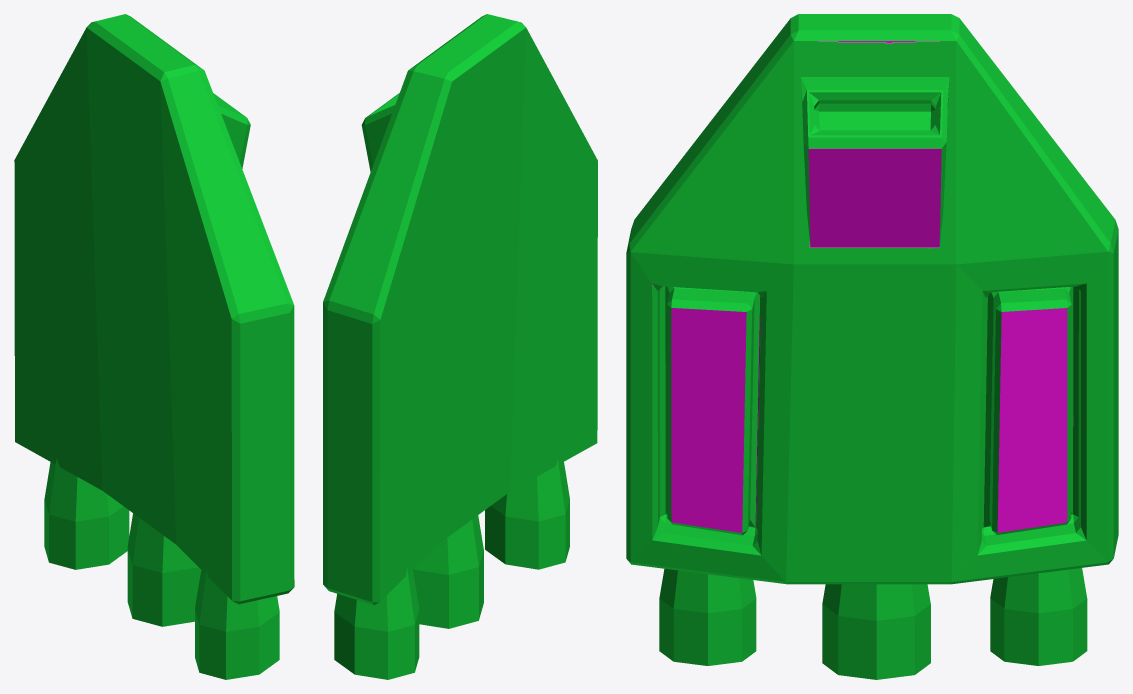
The model's file is GreenShip51.fbx.
3 renders of one model, left to right at view 1: azimuth 30°, elevation 25°; view 2: azimuth 150°, elevation 25°; view 3: azimuth 270°, elevation 25°, orthographic. The views are drawn at different scales.
Parts seen in each view (by area): view 1: Circle.004; view 2: Circle.004; view 3: Circle.004.
Part boxes in pixels (x1,y1,x2,y2): Circle.004: [14, 14, 294, 679]; Circle.004: [323, 14, 597, 679]; Circle.004: [626, 14, 1118, 679].
Bounding box in the file's own units: 31.37 × 177 × 125.
1 material, 1 textured.
